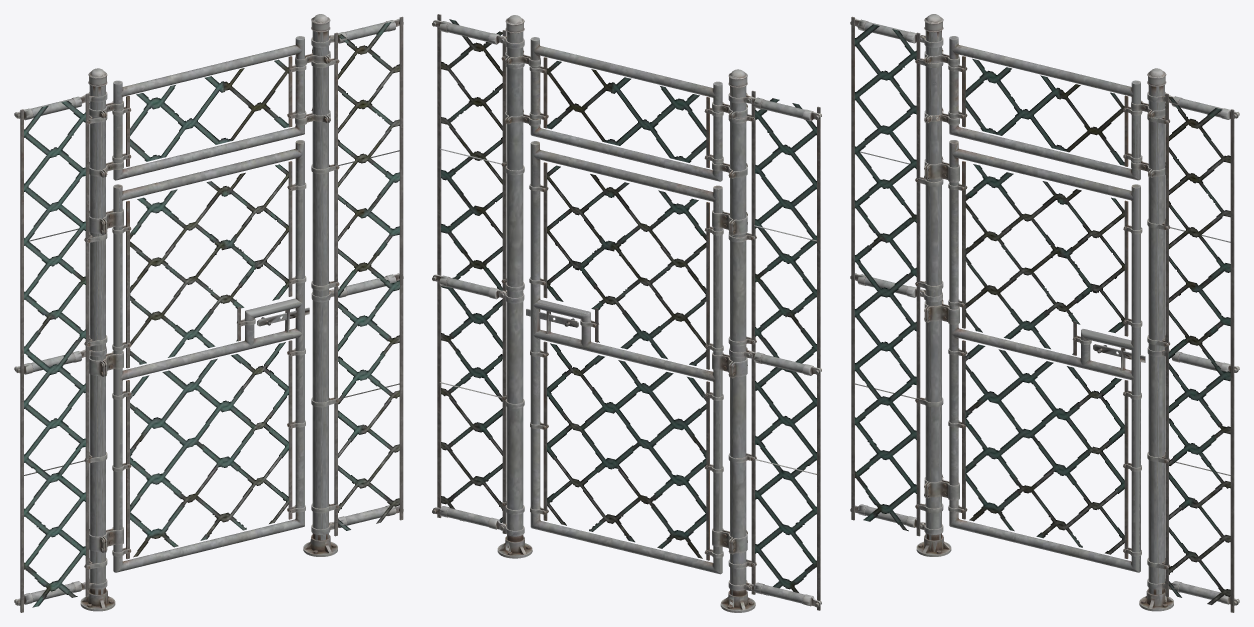
Rendered from modular-chainlink-fence-gate.glb.
The picture shows the model from 3 angles, left to right: view 1: azimuth 30°, elevation 25°; view 2: azimuth 150°, elevation 25°; view 3: azimuth 330°, elevation 25°; orthographic projection.
Parts seen in each view (by area): view 1: modular_chainlink_fence_gate; view 2: modular_chainlink_fence_gate; view 3: modular_chainlink_fence_gate.
Boxes of the visible parts, bbox=[...] form: modular_chainlink_fence_gate: bbox=[14, 14, 403, 612]; modular_chainlink_fence_gate: bbox=[432, 14, 821, 612]; modular_chainlink_fence_gate: bbox=[850, 14, 1239, 612].
Size of the model in its own units: 1.91 by 2.52 by 0.1484.
2 materials, 2 textured.
